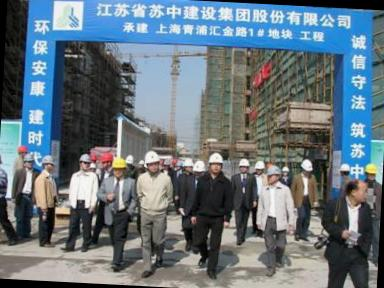no_helmet: (344, 177, 372, 205)
